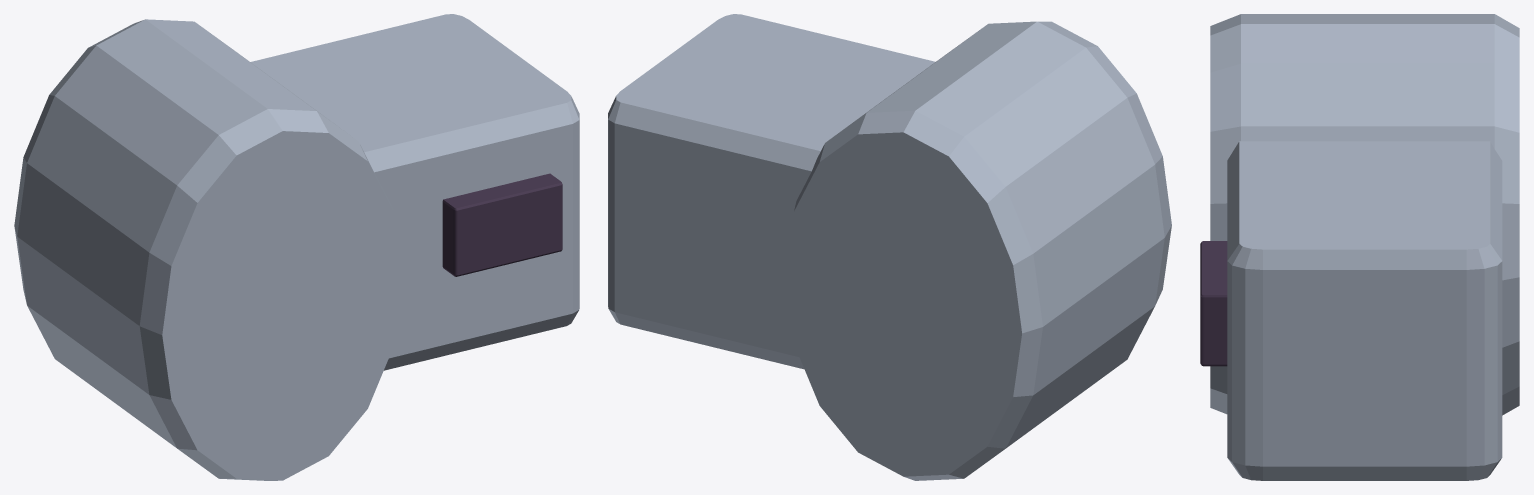
File: police_whistle.glb
The picture shows the model from 3 angles, left to right: view 1: azimuth 30°, elevation 25°; view 2: azimuth 150°, elevation 25°; view 3: azimuth 270°, elevation 25°; orthographic projection. The views are drawn at different scales.
Parts seen in each view (by area): view 1: model; view 2: model; view 3: model.
Part boxes in pixels (left/top/right/bottom): model: left=14, top=14, right=579, bottom=480; model: left=608, top=14, right=1171, bottom=480; model: left=1200, top=14, right=1519, bottom=480.
Bounding box in the file's own units: 0.15 × 0.12 × 0.09.
